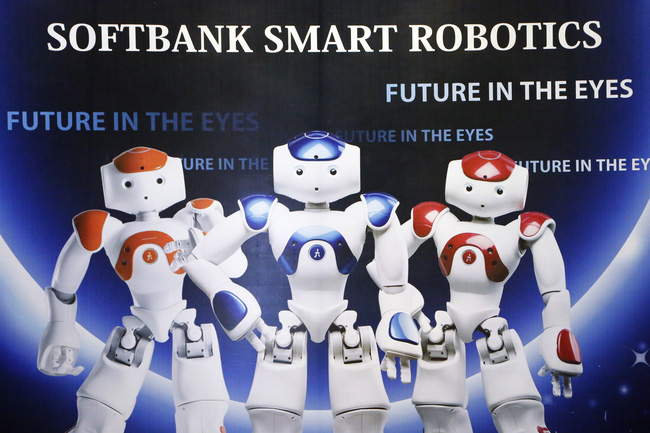nao: (182, 127, 433, 433), (38, 131, 241, 433), (395, 138, 584, 433)
